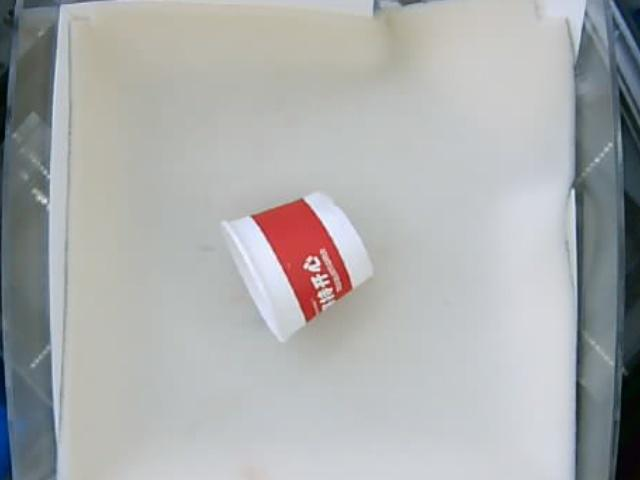Cup: (221, 188, 372, 346)
